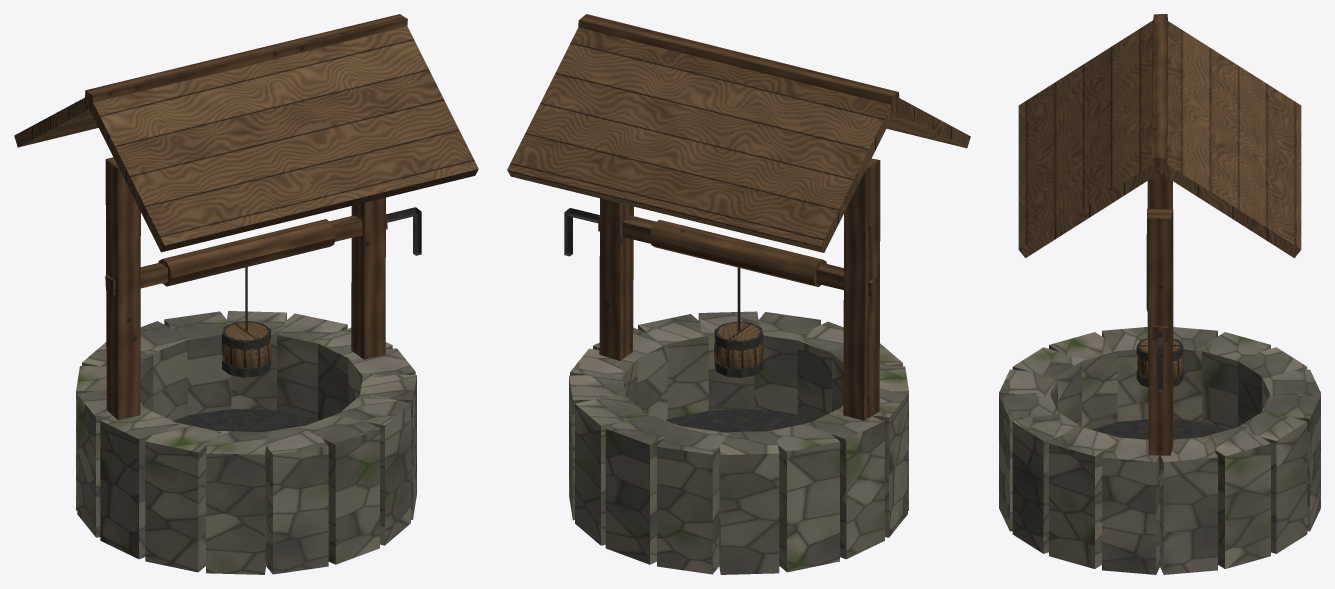
File: Well.fbx
3 renders of one model, left to right at view 1: azimuth 30°, elevation 25°; view 2: azimuth 150°, elevation 25°; view 3: azimuth 270°, elevation 25°, orthographic. The views are drawn at different scales.
Visible parts, largest first — view 1: Well; view 2: Well; view 3: Well.
Part boxes in pixels (left/top/right/bottom): Well: left=14, top=14, right=478, bottom=574; Well: left=507, top=14, right=970, bottom=574; Well: left=999, top=14, right=1320, bottom=574.
Bounding box in the file's own units: 2.42 × 3.14 × 2.17.
